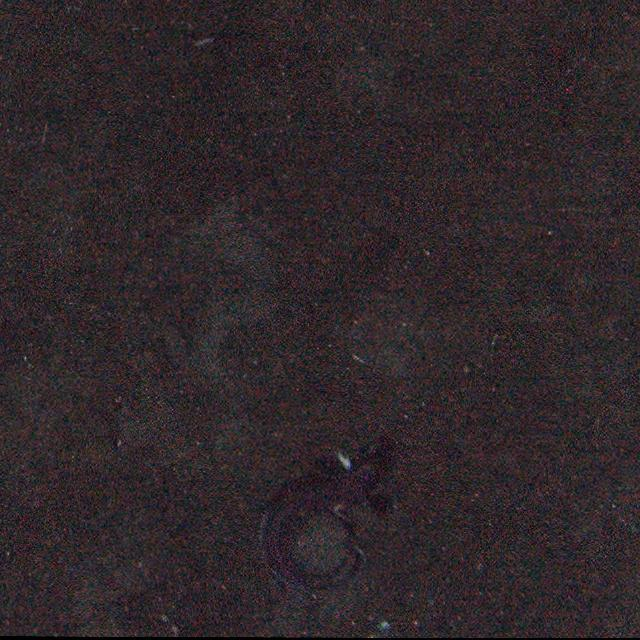roundfish: (258, 454, 389, 602)
